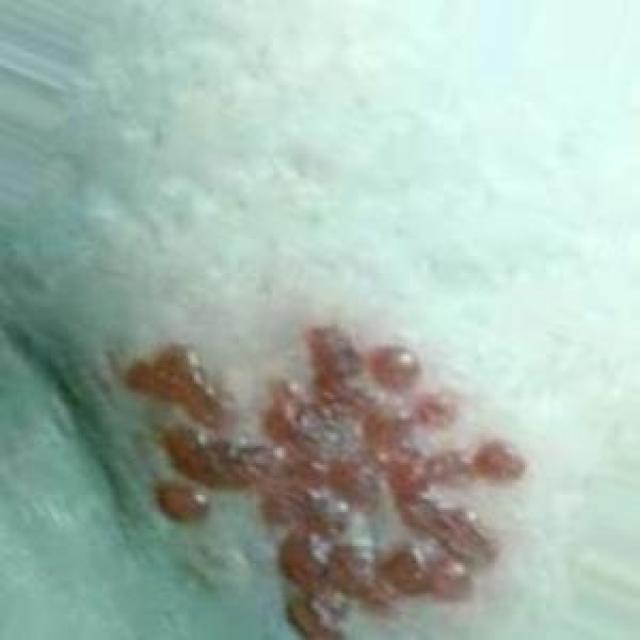Shingles: (123, 324, 527, 640)
